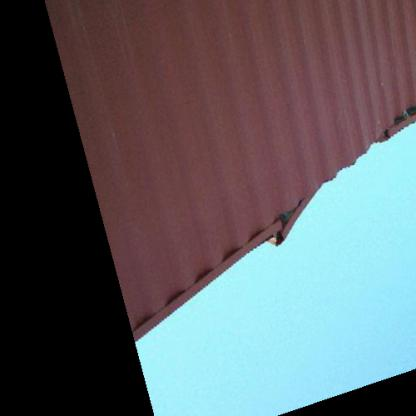Damage: (254, 169, 344, 250), (372, 97, 415, 147)
